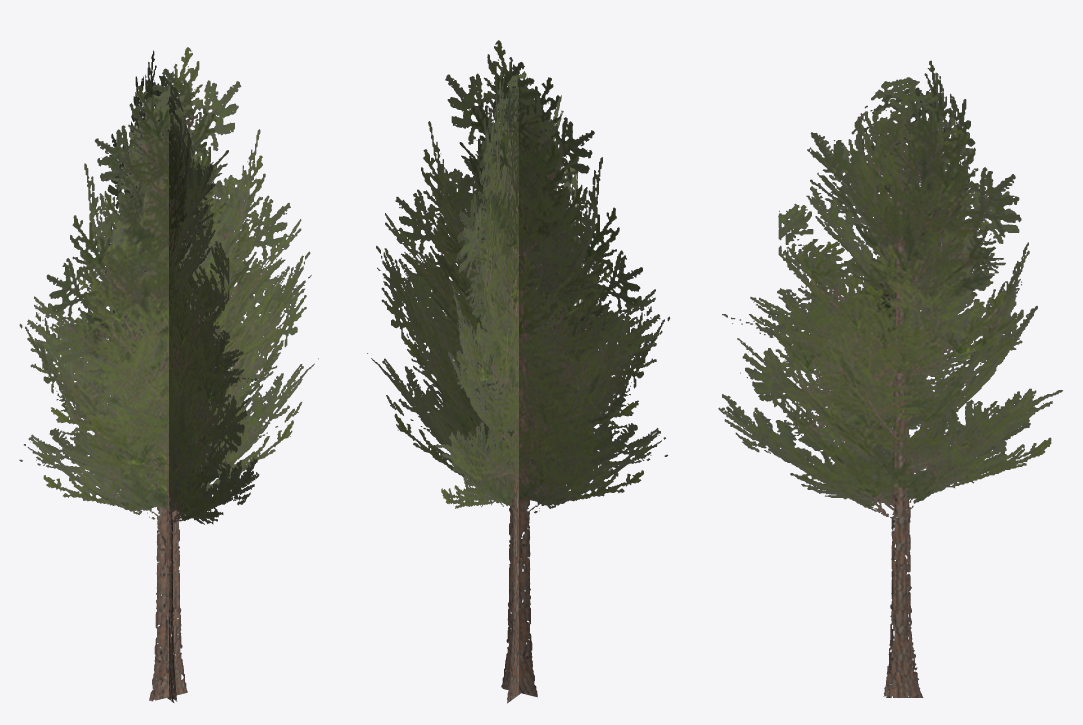
Rendered from Billboard_Pine_03.fbx.
The picture shows the model from 3 angles, left to right: view 1: azimuth 30°, elevation 25°; view 2: azimuth 150°, elevation 25°; view 3: azimuth 270°, elevation 25°; orthographic projection.
Visible parts, largest first — view 1: Billboard_Pine_03; view 2: Billboard_Pine_03; view 3: Billboard_Pine_03.
Boxes of the visible parts, x1,y1,x2,y2 form: Billboard_Pine_03: (19,47,318,702); Billboard_Pine_03: (367,40,670,703); Billboard_Pine_03: (718,60,1062,697).
Size of the model in its own units: 117 by 232 by 117.
